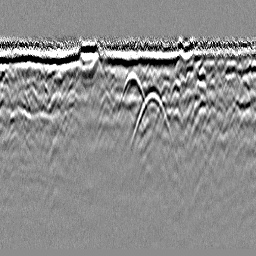cavity: (122, 68, 145, 103)
